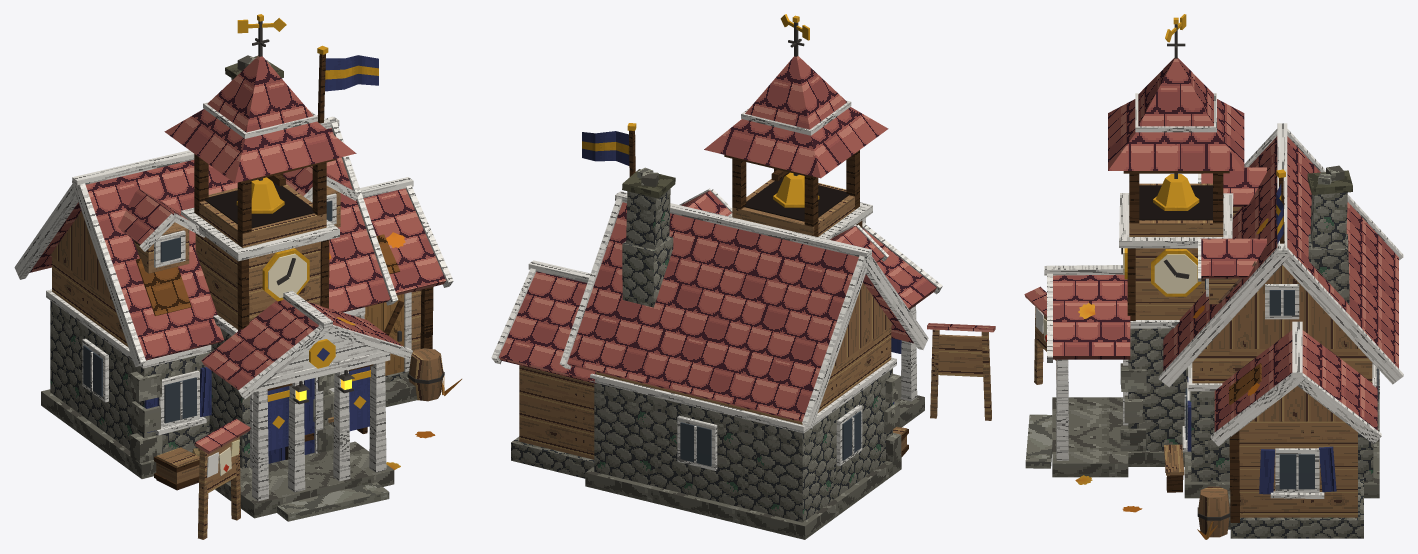
The model's file is town_center_3.glb.
3 renders of one model, left to right at view 1: azimuth 30°, elevation 25°; view 2: azimuth 150°, elevation 25°; view 3: azimuth 270°, elevation 25°, orthographic. The views are drawn at different scales.
Parts seen in each view (by area): view 1: town_center_3, sway_flag, sway_flag_2, sway_flag_3, sway_bell; view 2: town_center_3, sway_flag, sway_bell; view 3: town_center_3, sway_bell.
Part boxes in pixels (x1,y1,x2,y2): town_center_3: (14,21,461,539); sway_flag: (325,55,378,91); sway_flag_2: (267,383,292,450); sway_flag_3: (349,364,373,431); sway_bell: (236,177,284,213); town_center_3: (491,22,995,539); sway_flag: (582,131,629,165); sway_bell: (773,172,819,207); town_center_3: (1024,24,1403,539); sway_bell: (1153,173,1199,210).
Size of the model in its own units: 7.73 by 9.32 by 7.5.
Materials: 34 (20 with a texture image).
